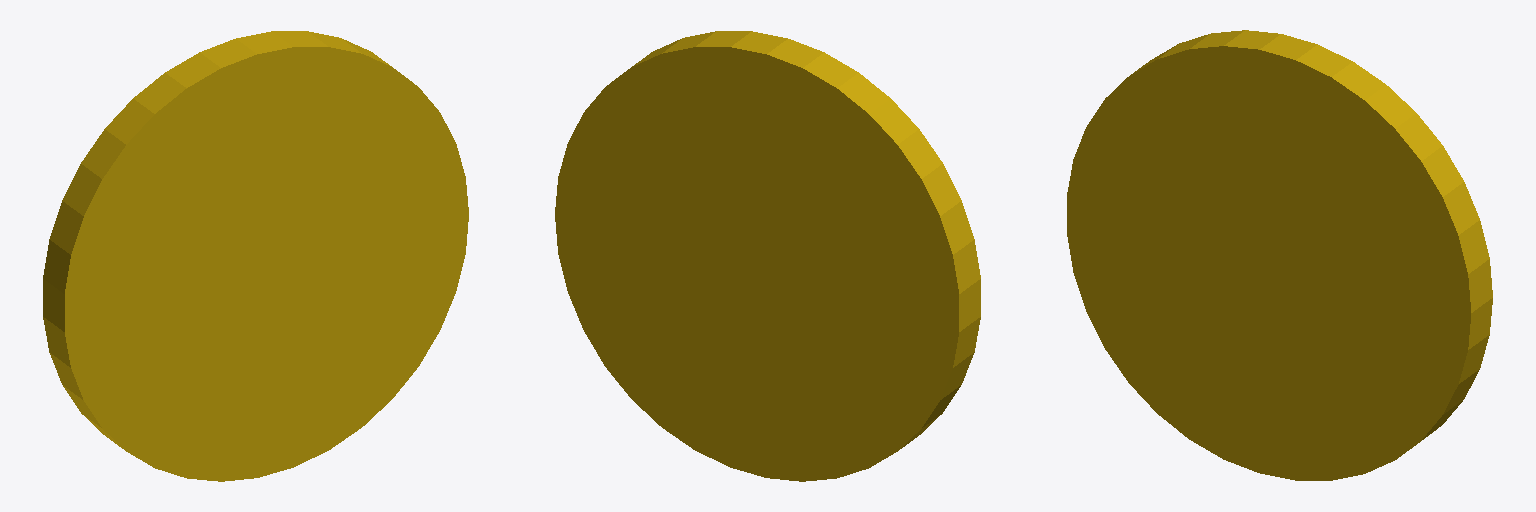
Rendered from coin.obj.
The picture shows the model from 3 angles: view 1: azimuth 30°, elevation 25°; view 2: azimuth 150°, elevation 25°; view 3: azimuth 330°, elevation 25°; orthographic projection.
Parts seen in each view (by area): view 1: Cylinder; view 2: Cylinder; view 3: Cylinder.
Boxes of the visible parts, box(x1,y1,x2,y2) form: Cylinder: box(43, 31, 468, 481); Cylinder: box(555, 31, 980, 481); Cylinder: box(1067, 30, 1492, 480).
Bounding box in the file's own units: 23.15 × 23.18 × 2.15.